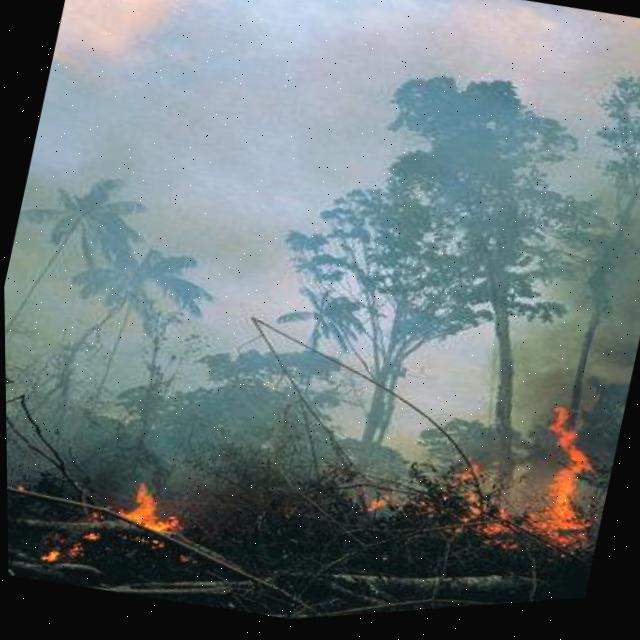fire: (524, 429, 607, 554)
smoke: (3, 0, 640, 541)
